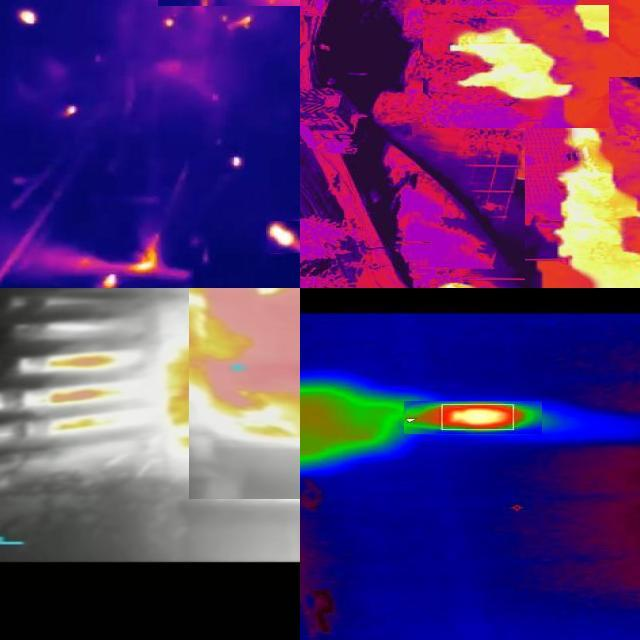fire: (525, 77, 640, 289), (190, 289, 301, 499), (424, 5, 610, 128), (405, 401, 543, 434), (264, 221, 301, 253), (17, 8, 43, 29)
